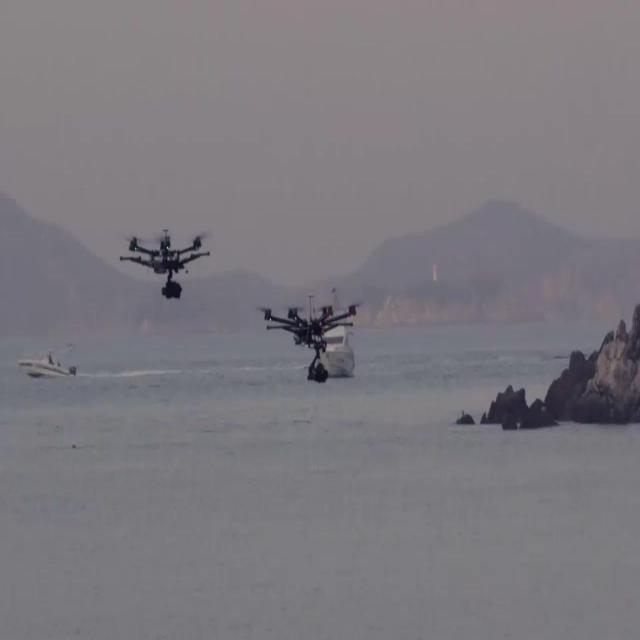drone: (260, 291, 366, 384), (117, 228, 215, 302)
